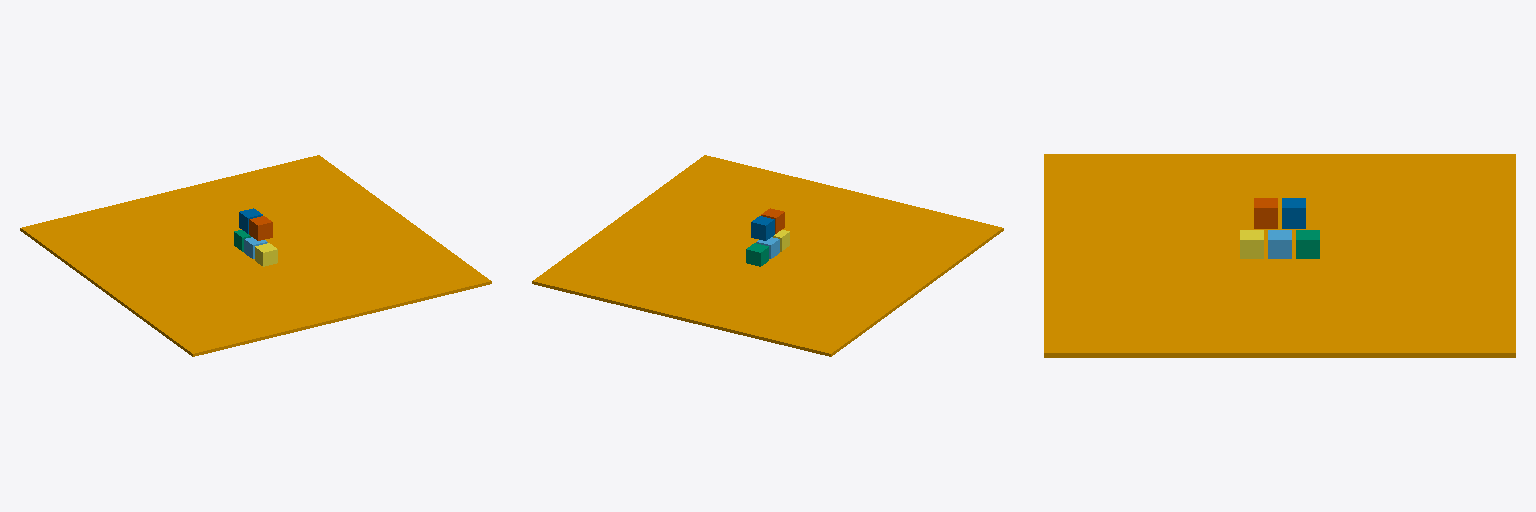
robot.urdf — tower_of_hanoi:
<robot name="tower_of_hanoi">
  <link name="zone1">
    <visual>
      <origin xyz="0 0 0"/>
      <geometry>
        <box size="1 1 0.01" />
      </geometry>
    </visual>
    <inertial>
      <origin xyz="0 0 0.01" /> 
      <mass value="1.0" />
      <inertia  ixx="1.0" ixy="0.0"  ixz="0.0"  iyy="1.0"  iyz="0.0"  izz="1.0" />
    </inertial>
  </link>
  
  <joint name="join1" type="floating">
    <origin xyz="0 0 0" rpy="0 0 0"/>
    <parent link="zone1"/>
    <child link="box1"/>
  </joint>

  <link name="box1">
    <inertial>
      <origin xyz="0 0 0.025" /> 
      <mass value="1.0" />
      <inertia  ixx="1.0" ixy="0.0"  ixz="0.0"  iyy="1.0"  iyz="0.0"  izz="1.0" />
    </inertial>
    <visual>
      <origin xyz="0 0 0.025"/>
      <geometry>
        <box size="0.05 0.05 0.05" />
      </geometry>
    </visual>
    <collision>
      <origin xyz="0 0 0.025"/>
      <geometry>
        <box size="0.05 0.05 0.05" />
      </geometry>
    </collision>
  </link>

  <joint name="join2" type="floating">
    <origin xyz="0 0 0" rpy="0 0 0"/>
    <parent link="zone1"/>
    <child link="box2"/>
  </joint>

  <link name="box2">
    <inertial>
      <origin xyz="0 0.06 0.025" /> 
      <mass value="1.0" />
      <inertia  ixx="1.0" ixy="0.0"  ixz="0.0"  iyy="1.0"  iyz="0.0"  izz="1.0" />
    </inertial>
    <visual>
      <origin xyz="0 0.06 0.025"/>
      <geometry>
        <box size="0.05 0.05 0.05" />
      </geometry>
    </visual>
    <collision>
      <origin xyz="0 0.06 0.025"/>
      <geometry>
        <box size="0.05 0.05 0.05" />
      </geometry>
    </collision>
  </link>

  <joint name="join3" type="floating">
    <origin xyz="0 0 0" rpy="0 0 0"/>
    <parent link="zone1"/>
    <child link="box3"/>
  </joint>

  <link name="box3">
    <inertial>
      <origin xyz="0 -0.06 0.025" /> 
      <mass value="1.0" />
      <inertia  ixx="1.0" ixy="0.0"  ixz="0.0"  iyy="1.0"  iyz="0.0"  izz="1.0" />
    </inertial>
    <visual>
      <origin xyz="0 -0.06 0.025"/>
      <geometry>
        <box size="0.05 0.05 0.05" />
      </geometry>
    </visual>
    <collision>
      <origin xyz="0 -0.06 0.025"/>
      <geometry>
        <box size="0.05 0.05 0.05" />
      </geometry>
    </collision>
  </link>

 <joint name="join4" type="floating">
    <origin xyz="0 0.03 0.1" rpy="0 0 0"/>
    <parent link="zone1"/>
    <child link="box4"/>
  </joint>

 <link name="box4">
    <inertial>
      <origin xyz="0 0.0 0.0" /> 
      <mass value="1.0" />
      <inertia  ixx="1.0" ixy="0.0"  ixz="0.0"  iyy="1.0"  iyz="0.0"  izz="1.0" />
    </inertial>
    <visual>
      <origin xyz="0 0.0 0.0" /> 
      <geometry>
        <box size="0.05 0.05 0.05" />
      </geometry>
    </visual>
    <collision>
      <origin xyz="0 0.0 0.0" /> 
      <geometry>
        <box size="0.05 0.05 0.05" />
      </geometry>
    </collision>
  </link>

 <joint name="join5" type="floating">
    <origin xyz="0 -0.03 0.1" rpy="0 0 0"/>
    <parent link="zone1"/>
    <child link="box5"/>
  </joint>

 <link name="box5">
    <inertial>
      <origin xyz="0 0 0" /> 
      <mass value="1.0" />
      <inertia  ixx="1.0" ixy="0.0"  ixz="0.0"  iyy="1.0"  iyz="0.0"  izz="1.0" />
    </inertial>
    <visual>
      <origin xyz="0 0 0" /> 
      <geometry>
        <box size="0.05 0.05 0.05" />
      </geometry>
    </visual>
    <collision>
      <origin xyz="0 0 0" /> 
      <geometry>
        <box size="0.05 0.05 0.05" />
      </geometry>
    </collision>
  </link>

  <gazebo reference="zone1">
    <material>Gazebo/Red</material>
    <selfCollide>true</selfCollide>	
  </gazebo>
  <gazebo reference="box1">
    <material>Gazebo/Blue</material>
    <selfCollide>true</selfCollide>
  </gazebo>
  <gazebo reference="box2">
    <material>Gazebo/Blue</material>
    <selfCollide>true</selfCollide>
  </gazebo>
  <gazebo reference="box3">
    <material>Gazebo/Blue</material>
    <selfCollide>true</selfCollide>
  </gazebo>
  <gazebo reference="box4">
    <material>Gazebo/Red</material>
    <selfCollide>true</selfCollide>
  </gazebo>
  <gazebo reference="box5">
    <material>Gazebo/Red</material>
    <selfCollide>true</selfCollide>
  </gazebo>


</robot>

--- Render facts (derived) ---
Views: 3 orthographic renders of the robot side by side, from view 1: azimuth 30°, elevation 25°; view 2: azimuth 150°, elevation 25°; view 3: azimuth 270°, elevation 25°.
Robot: tower_of_hanoi — 6 links, 5 joints (5 floating); root link zone1; default pose: all joints at 0.
Links seen in each view (by area): view 1: zone1; view 2: zone1; view 3: zone1, box4, box5, box1, box2, box3.
Link boxes in pixels (bbox=[...]): zone1: bbox=[20, 155, 491, 356]; zone1: bbox=[532, 155, 1003, 356]; zone1: bbox=[1044, 154, 1515, 357]; box4: bbox=[1282, 198, 1305, 228]; box5: bbox=[1254, 198, 1277, 228]; box1: bbox=[1268, 230, 1291, 258]; box2: bbox=[1296, 230, 1319, 258]; box3: bbox=[1240, 230, 1263, 258].
Bounding box of the posed robot: 1 × 1 × 0.13 m (x, y, z).
Geometry: primitives only (box / cylinder / sphere), no mesh files.